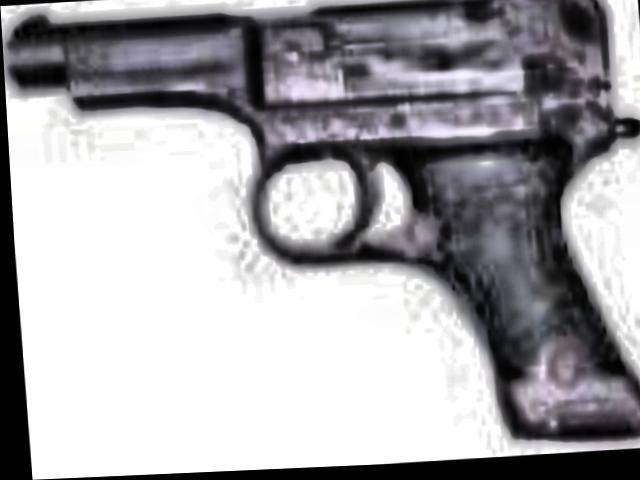pistol: (4, 0, 640, 469)
